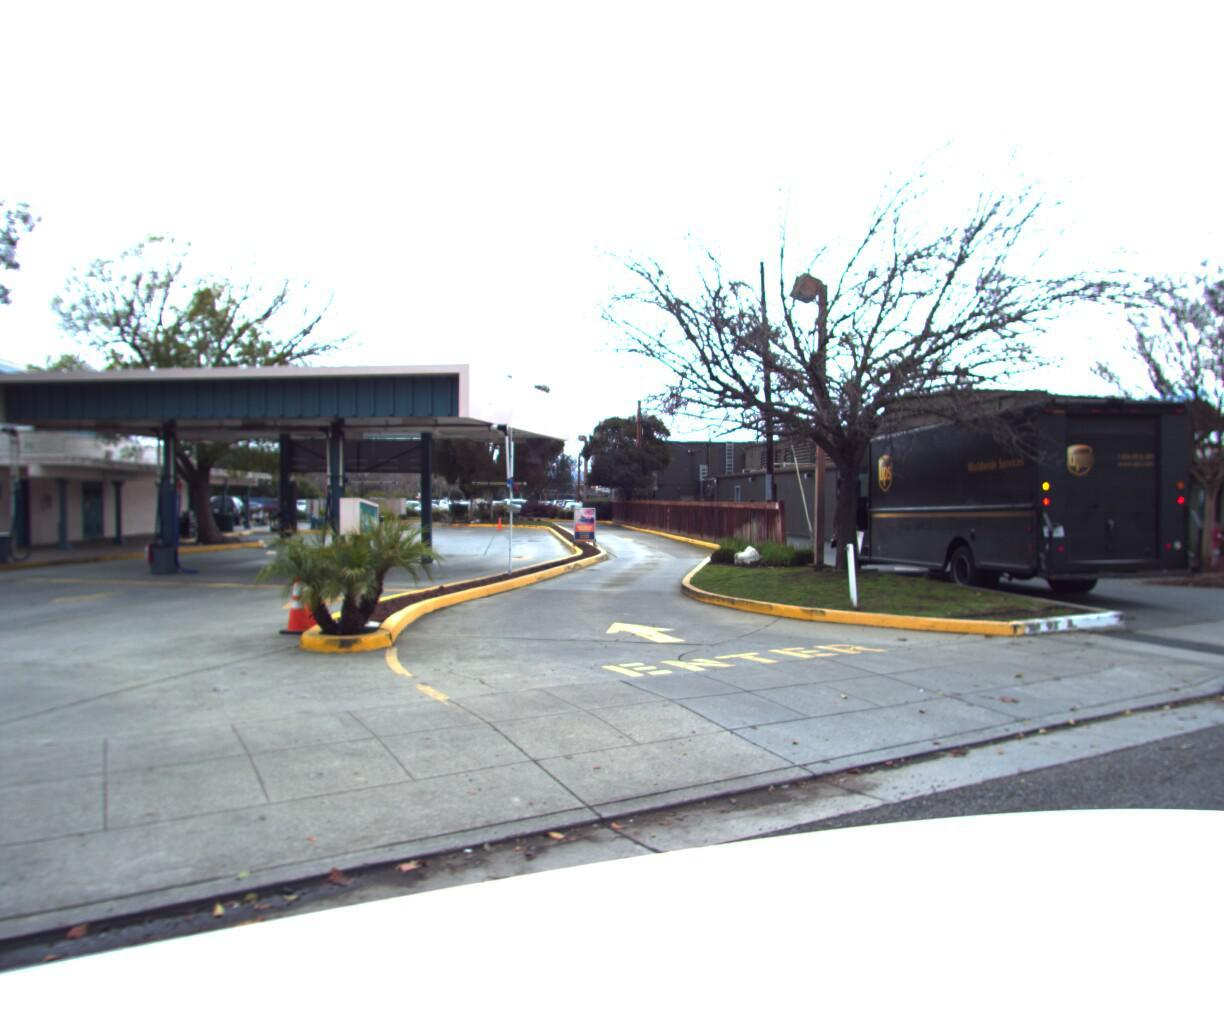car: (210, 497, 254, 521)
truck: (828, 391, 1216, 602)
